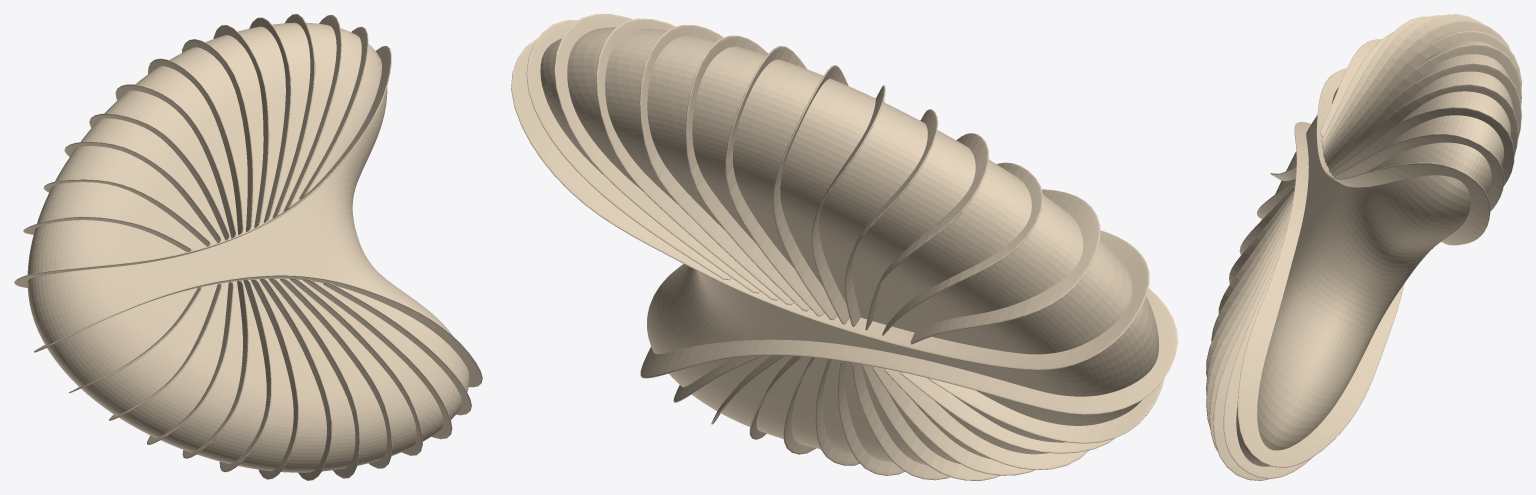
File: fins-gold-v13.glb
The picture shows the model from 3 angles, left to right: view 1: azimuth 30°, elevation 25°; view 2: azimuth 150°, elevation 25°; view 3: azimuth 270°, elevation 25°; orthographic projection. The views are drawn at different scales.
Visible parts, largest first — view 1: Plane_13, Plane_12, Plane_6, Plane_7, Plane_8, Plane_5, Plane_10, Plane_4, Plane_9, Plane_11, Plane_3, Plane_2 (+2 smaller); view 2: Plane_13, Plane_12, Plane, Plane_11, Plane_10, Plane_2, Plane_1, Plane_8, Plane_7, Plane_6, Plane_9, Plane_5 (+2 smaller); view 3: Plane_13, Plane_12, Plane_11, Plane_10, Plane_8, Plane_9, Plane_7, Plane_6, Plane_5, Plane_4, Plane_3, Plane_2 (+2 smaller).
Boxes of the visible parts, x1=… form: Plane_13: x1=27, y1=22, x2=469, y2=472; Plane_12: x1=14, y1=46, x2=482, y2=387; Plane_6: x1=182, y1=39, x2=332, y2=480; Plane_7: x1=213, y1=25, x2=360, y2=478; Plane_8: x1=249, y1=17, x2=392, y2=468; Plane_5: x1=148, y1=58, x2=298, y2=479; Plane_10: x1=283, y1=15, x2=452, y2=439; Plane_4: x1=115, y1=84, x2=271, y2=472; Plane_9: x1=272, y1=14, x2=422, y2=455; Plane_11: x1=299, y1=26, x2=471, y2=415; Plane_3: x1=89, y1=113, x2=248, y2=458; Plane_2: x1=64, y1=141, x2=233, y2=444; Plane_13: x1=540, y1=27, x2=1158, y2=465; Plane_12: x1=511, y1=38, x2=1177, y2=414; Plane: x1=910, y1=189, x2=1164, y2=443; Plane_11: x1=526, y1=20, x2=762, y2=402; Plane_10: x1=554, y1=14, x2=784, y2=424; Plane_2: x1=865, y1=133, x2=1088, y2=470; Plane_1: x1=882, y1=162, x2=1113, y2=453; Plane_8: x1=639, y1=24, x2=815, y2=454; Plane_7: x1=685, y1=35, x2=859, y2=465; Plane_6: x1=725, y1=46, x2=904, y2=475; Plane_9: x1=596, y1=18, x2=801, y2=439; Plane_5: x1=772, y1=65, x2=950, y2=480; Plane_13: x1=1236, y1=30, x2=1513, y2=466; Plane_12: x1=1237, y1=68, x2=1490, y2=467; Plane_11: x1=1223, y1=133, x2=1504, y2=478; Plane_10: x1=1213, y1=107, x2=1514, y2=480; Plane_8: x1=1206, y1=63, x2=1521, y2=428; Plane_9: x1=1209, y1=84, x2=1518, y2=451; Plane_7: x1=1206, y1=44, x2=1521, y2=394; Plane_6: x1=1206, y1=30, x2=1521, y2=376; Plane_5: x1=1211, y1=20, x2=1510, y2=341; Plane_4: x1=1218, y1=14, x2=1482, y2=313; Plane_3: x1=1229, y1=15, x2=1442, y2=283; Plane_2: x1=1239, y1=16, x2=1428, y2=254.
Size of the model in its own units: 2.7 by 2.39 by 1.73.
